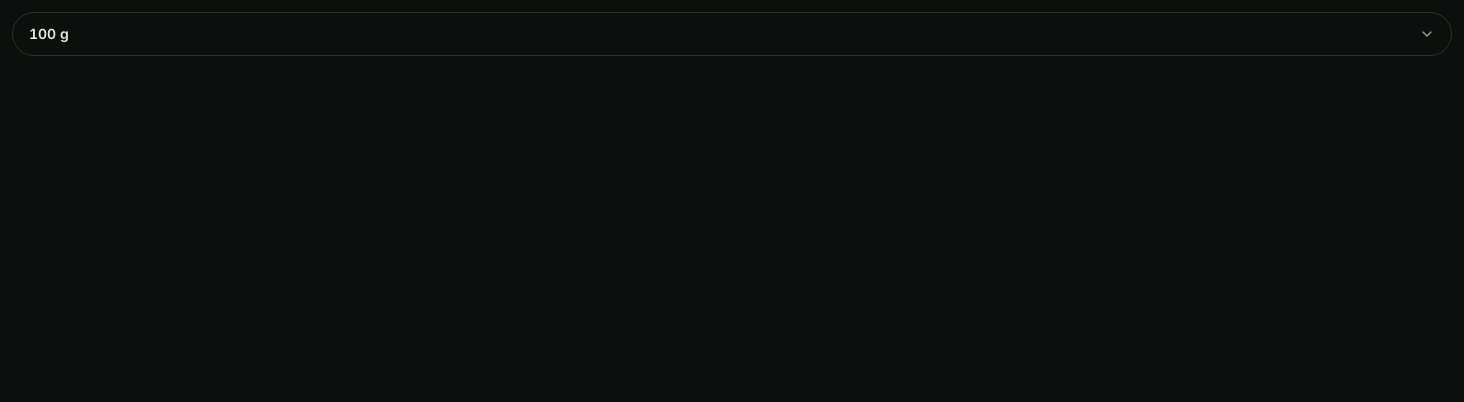
Test: GramazPill › klik otevře popover s předvolbami 1–250 g
Click the button named "Množství" at (49, 34), box [12,12,1452,56]
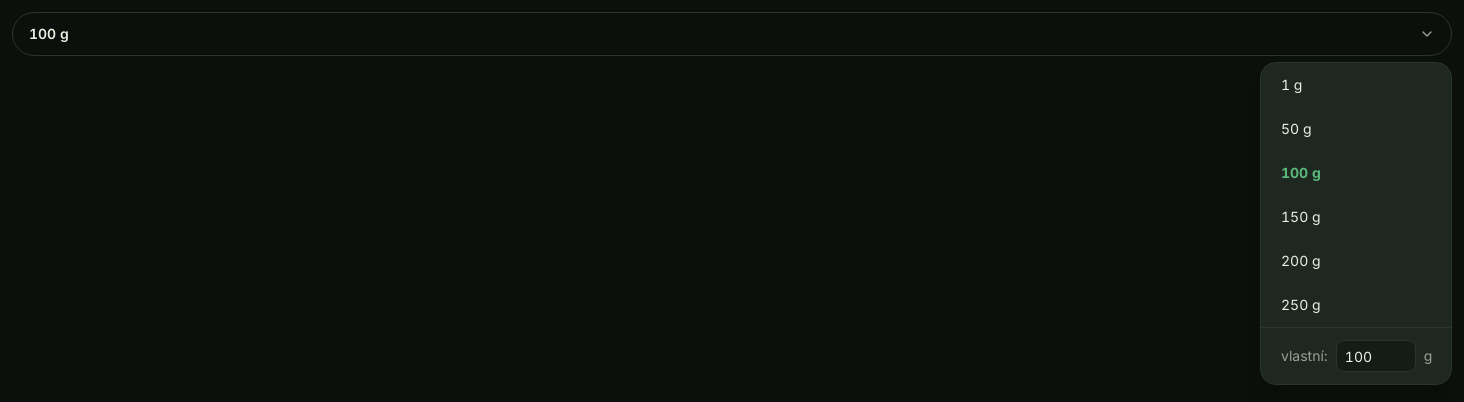
Result: the menu is shown at [1260,62,1452,385]
Result: the menu item "1 g" is shown at [1261,63,1451,107]
Result: the menu item "50 g" is shown at [1261,107,1451,151]
